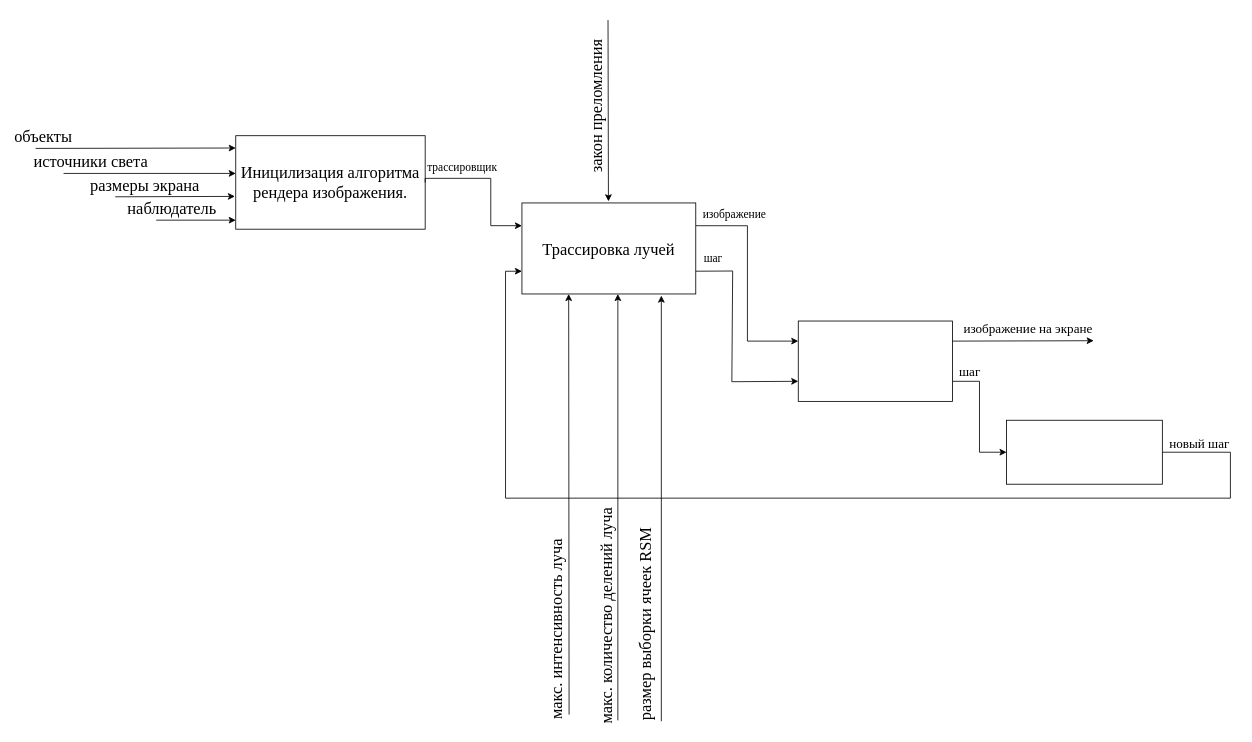
This 1252x742 diagram has some shape labels left out. Each missing label, with the centre of its shape:
Отрисовка изображения размера экрана: the point at 874,360
шаг прохода по картинной плоскости уменьшается: the point at 1084,451
